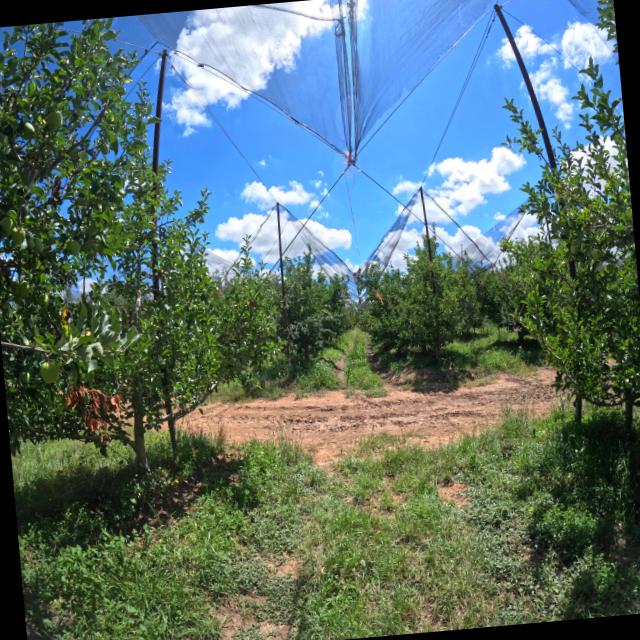-FireBlight-: (62, 377, 126, 444)
